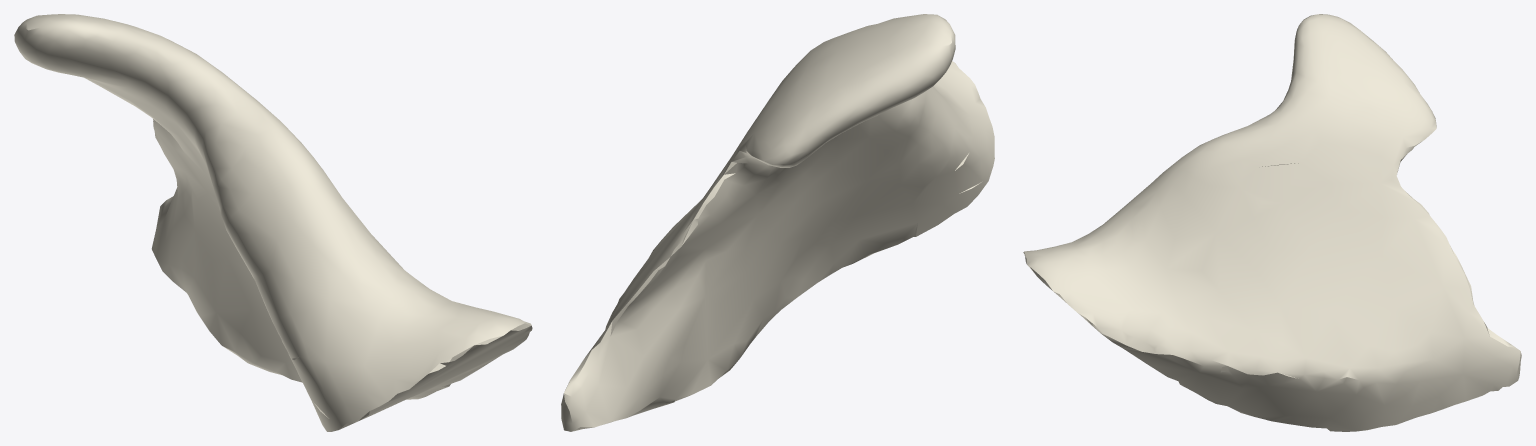
File: fma54743_mm2177m.glb
3 renders of one model, left to right at view 1: azimuth 30°, elevation 25°; view 2: azimuth 150°, elevation 25°; view 3: azimuth 270°, elevation 25°, orthographic. The views are drawn at different scales.
Parts seen in each view (by area): view 1: FMA54743_MM2177M; view 2: FMA54743_MM2177M; view 3: FMA54743_MM2177M.
Part boxes in pixels (x1,y1,x2,y2): FMA54743_MM2177M: [14, 14, 532, 431]; FMA54743_MM2177M: [561, 14, 994, 431]; FMA54743_MM2177M: [1023, 14, 1521, 431].
Size of the model in its own units: 0.00472 by 0.00567 by 0.00807.
